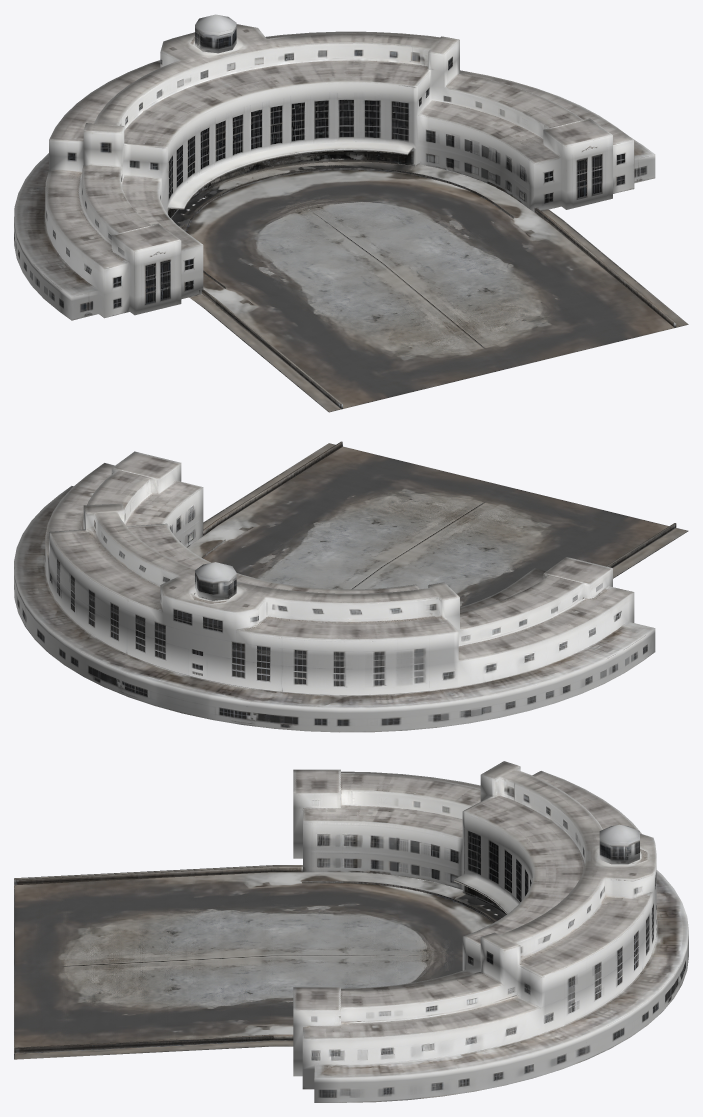
Rendered from Treasure_Island_3.glb.
3 renders of one model, top to bottom at view 1: azimuth 30°, elevation 25°; view 2: azimuth 150°, elevation 25°; view 3: azimuth 270°, elevation 25°, orthographic. The views are drawn at different scales.
Size of the model in its own units: 2 by 0.4844 by 1.94.
1 material, 1 textured.
